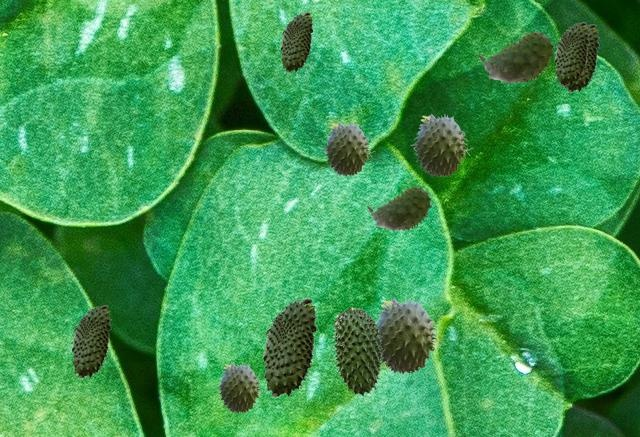guyabano: (262, 298, 316, 396), (376, 297, 443, 373), (332, 306, 382, 395), (478, 31, 554, 85), (410, 113, 472, 176), (367, 186, 431, 232), (321, 121, 374, 175), (71, 305, 110, 377), (215, 362, 264, 412), (564, 24, 598, 91), (554, 22, 588, 85), (280, 12, 312, 71)
